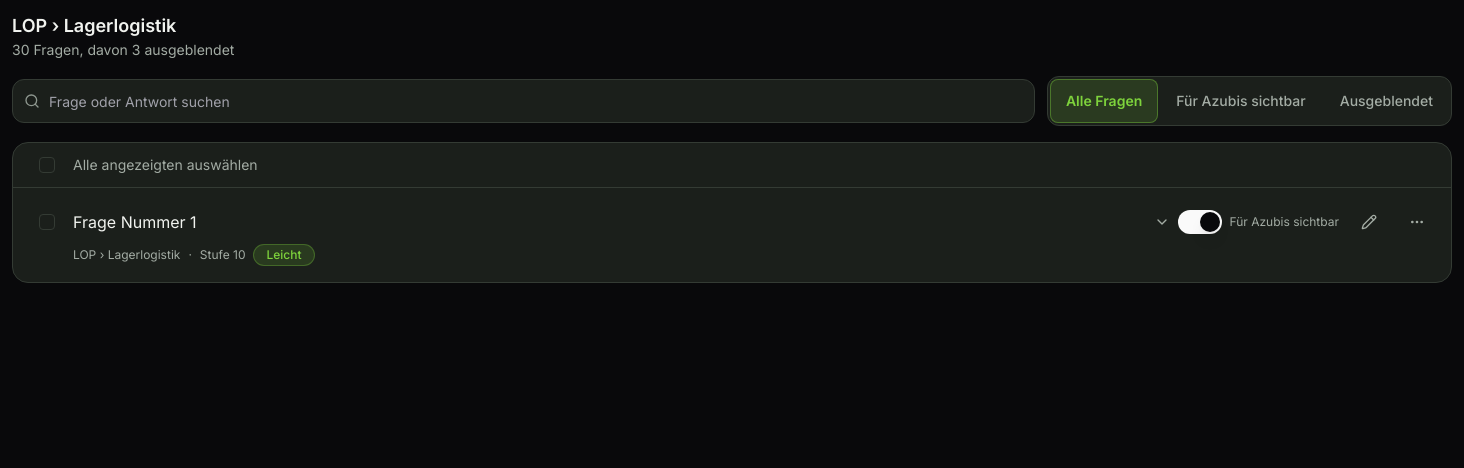
Reiter „Fragen“ (PROJ-131) › zeigt bei Freitext die Musterlösung
Click the button "Frage Nummer 1": [135, 222] box [73,200,1170,244]
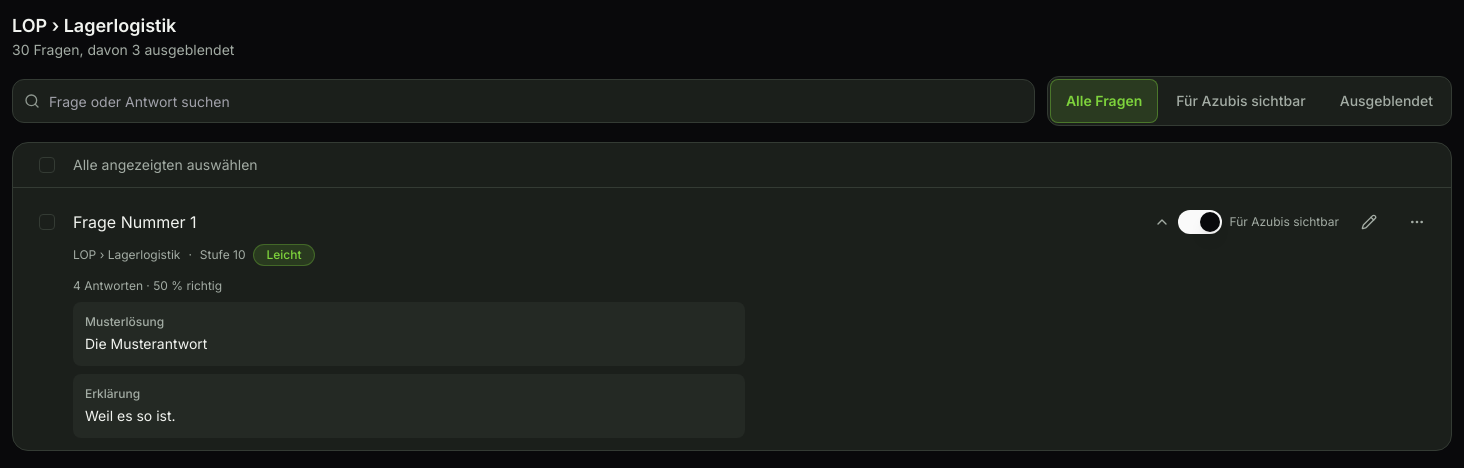
Expected: the text "Musterlösung" is shown, [85,314,164,329]
Expected: the text "Die Musterantwort" is shown, [85,335,207,352]
